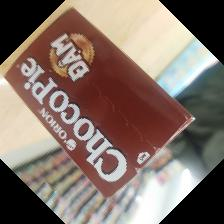Chocopie_cacao: (3, 6, 196, 198)
